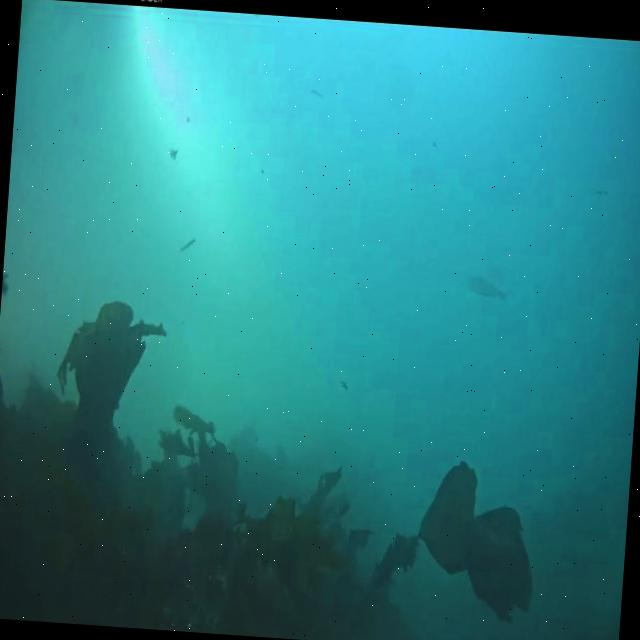fish: (464, 271, 506, 301)
